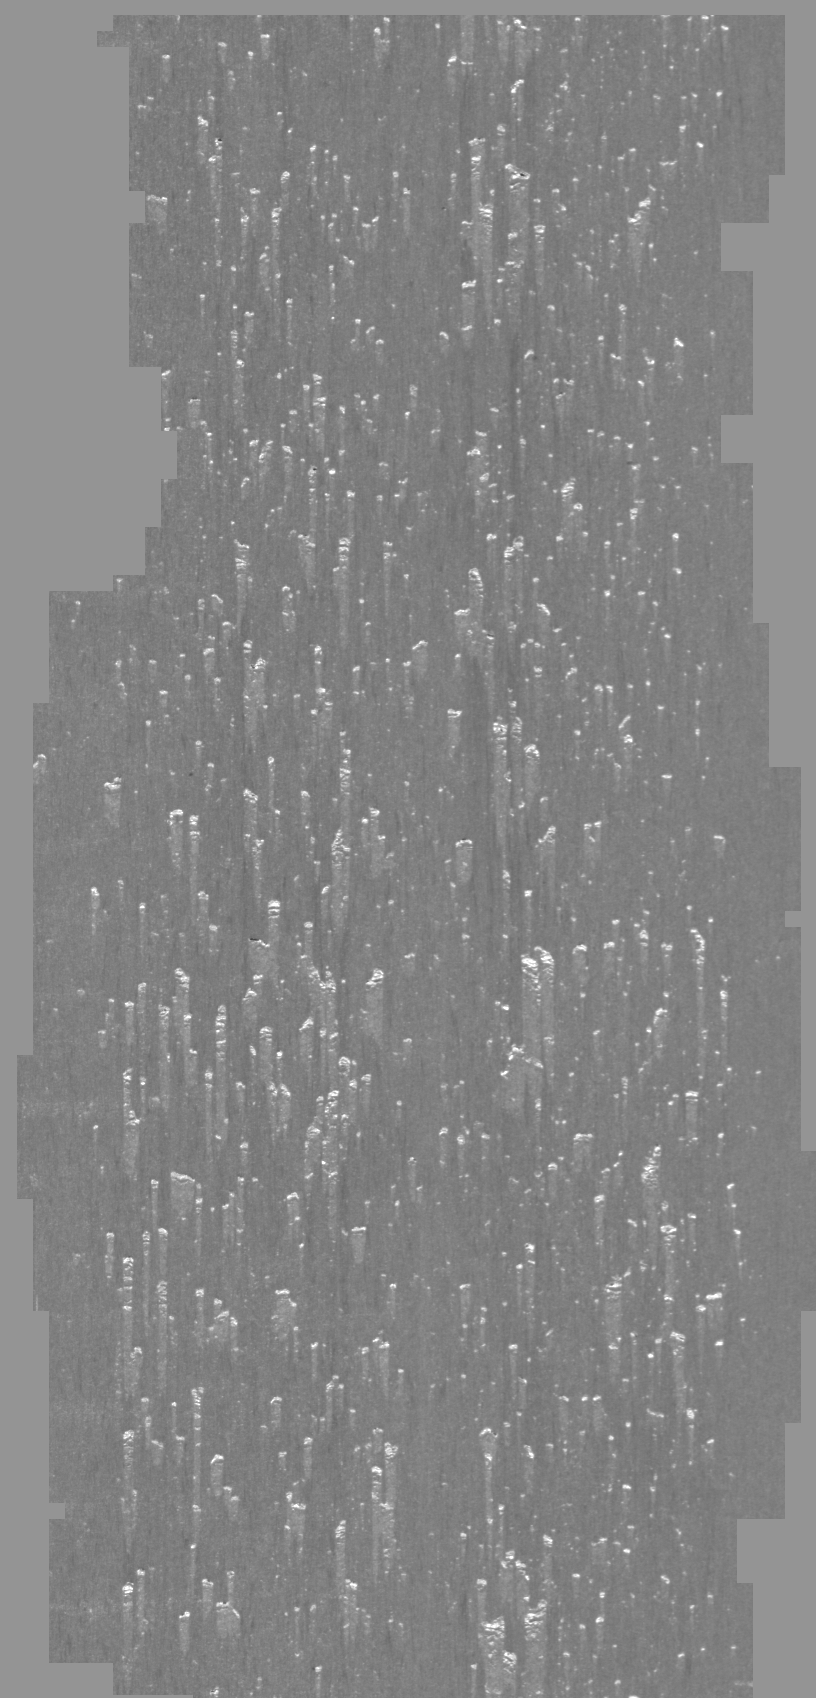oxl: (35, 10, 781, 1688)
